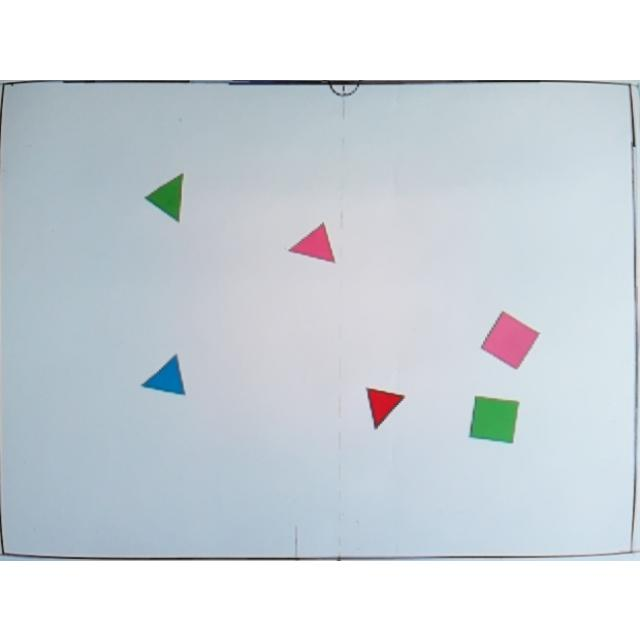blueTriangle: (140, 352, 188, 396)
greenSquare: (469, 392, 519, 442)
greenTriangle: (144, 172, 186, 222)
pinkSquare: (480, 309, 540, 369)
pinkTriangle: (287, 219, 339, 265)
redTriangle: (366, 384, 406, 432)
